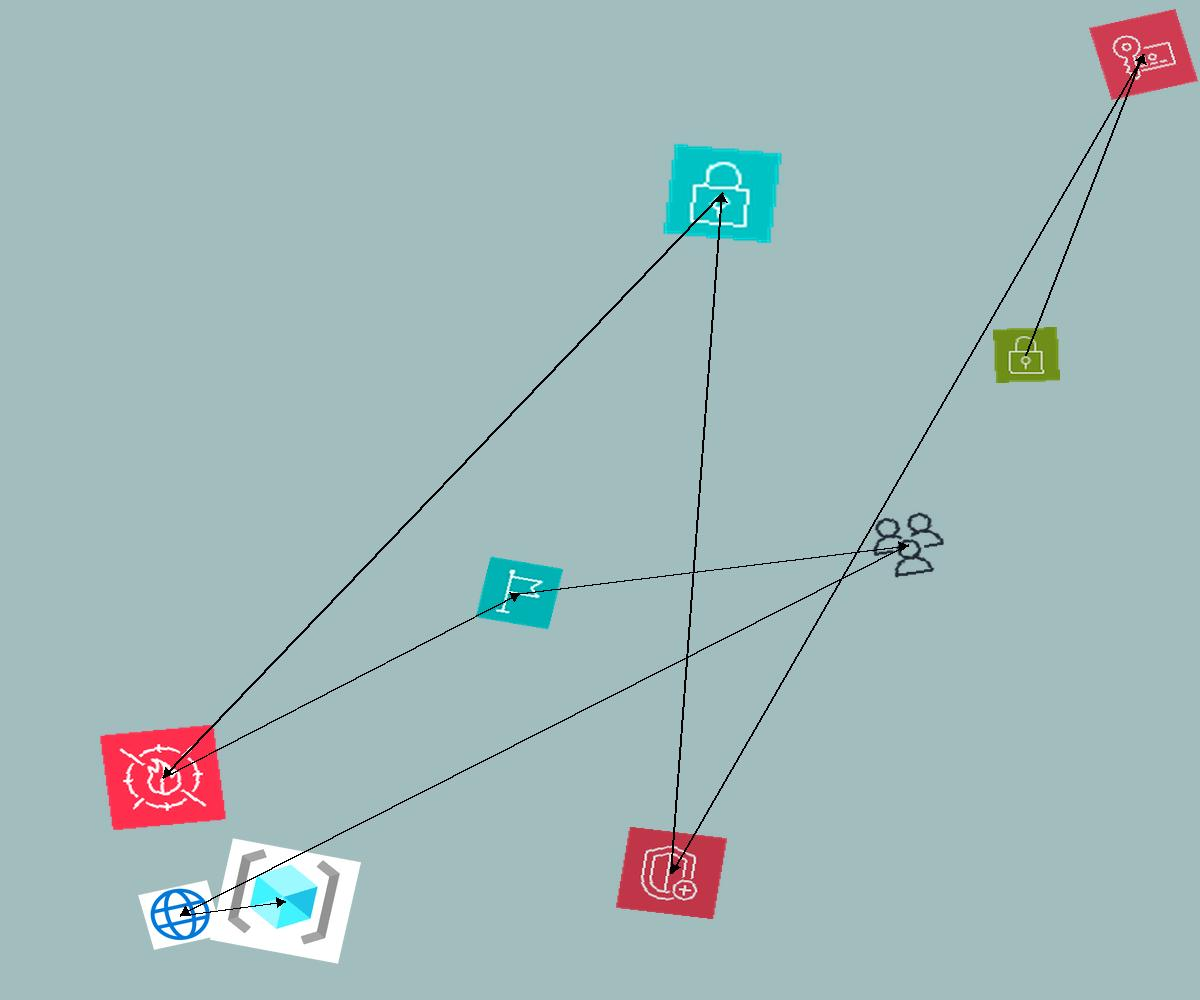AWS-Key-Management-Service: (1089, 9, 1198, 100)
AWS-Private-subnet: (661, 142, 784, 245)
AWS-Public-subnet: (993, 327, 1060, 383)
AWS-Region: (475, 556, 564, 630)
AWS-Res_Users: (861, 506, 955, 584)
AWS-Shield: (615, 826, 728, 920)
AWS-WAF: (99, 724, 227, 831)
Azure_http: (138, 880, 223, 950)
Azure_resource_group: (210, 838, 361, 964)
